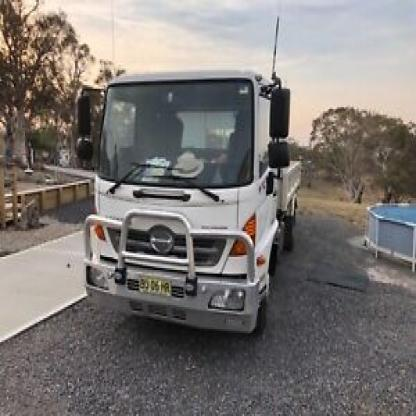dump_truck: (70, 46, 318, 357)
